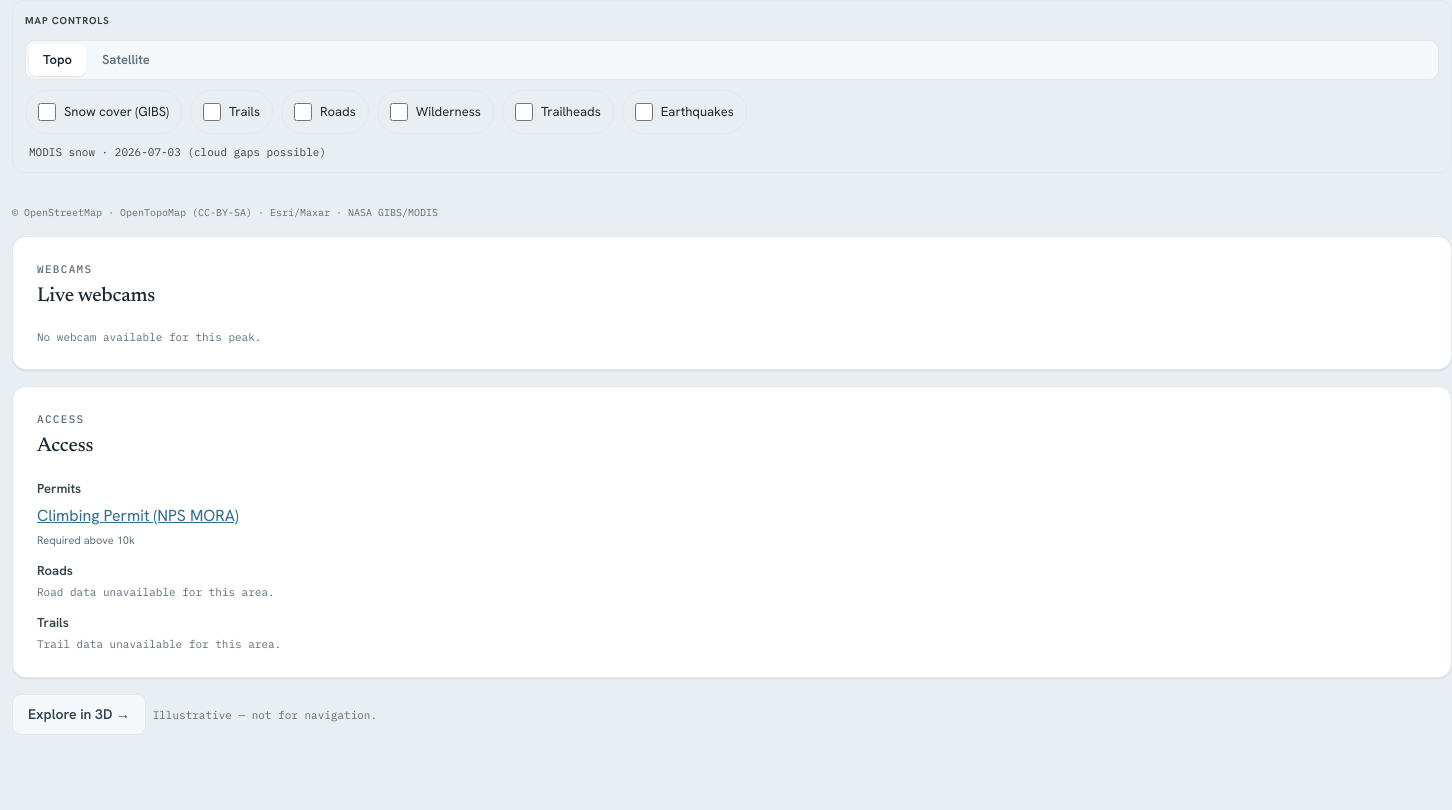
it: TerrainAccess › (b2) toggling Trails shows the OSM ODbL attribution + a legend entry
What coordinates should you click on to do the following:
click the checkbox labelled "Trails"
I would click on:
 (212, 112)
Its box is [203, 102, 221, 120].
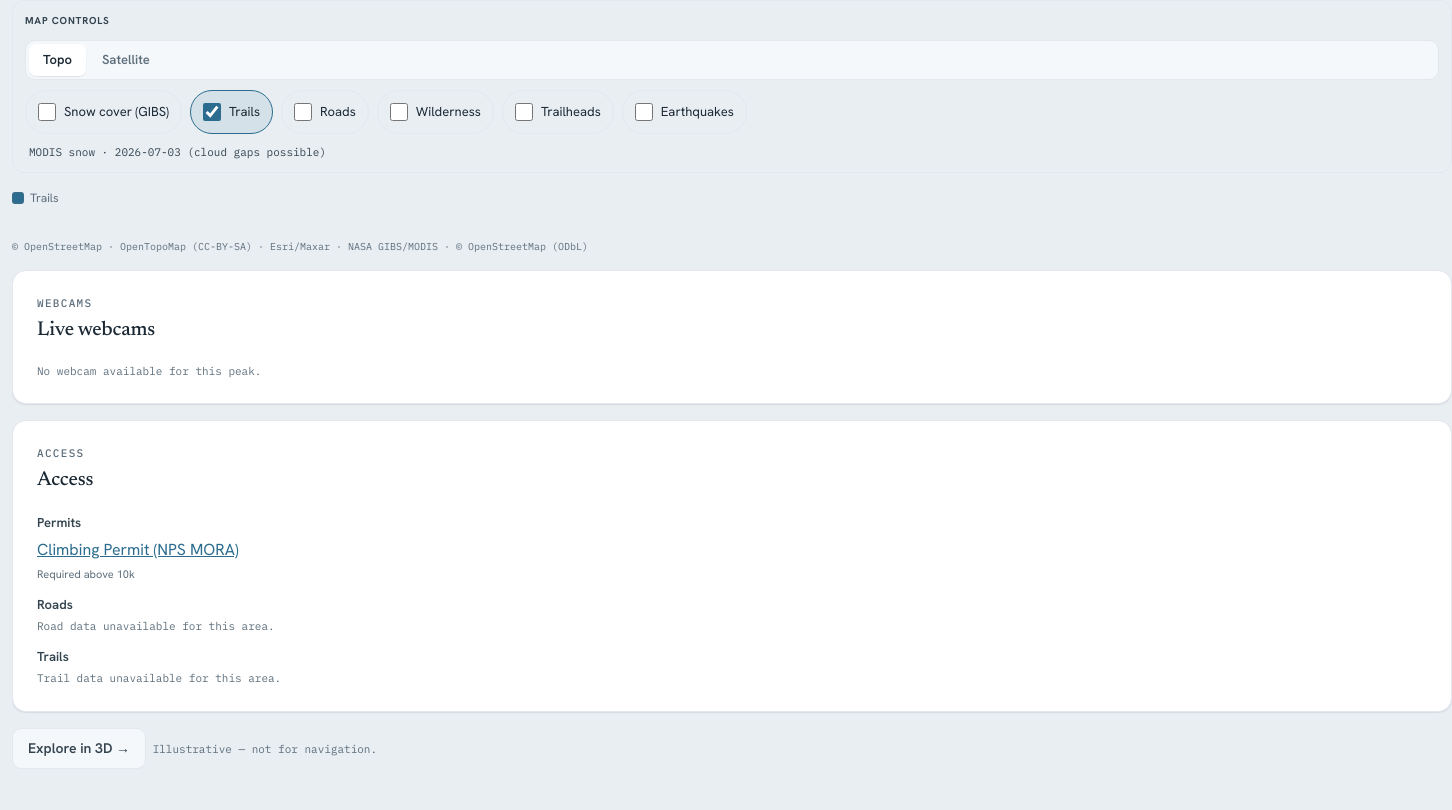
expect the checkbox labelled "Trails" is checked: met, box [203, 102, 221, 120]
expect the text "openstreetmap (odbl)" is shown: met, box [438, 240, 588, 253]
expect the list named "map layer legend" reads "Trails": met, box [30, 190, 59, 206]
